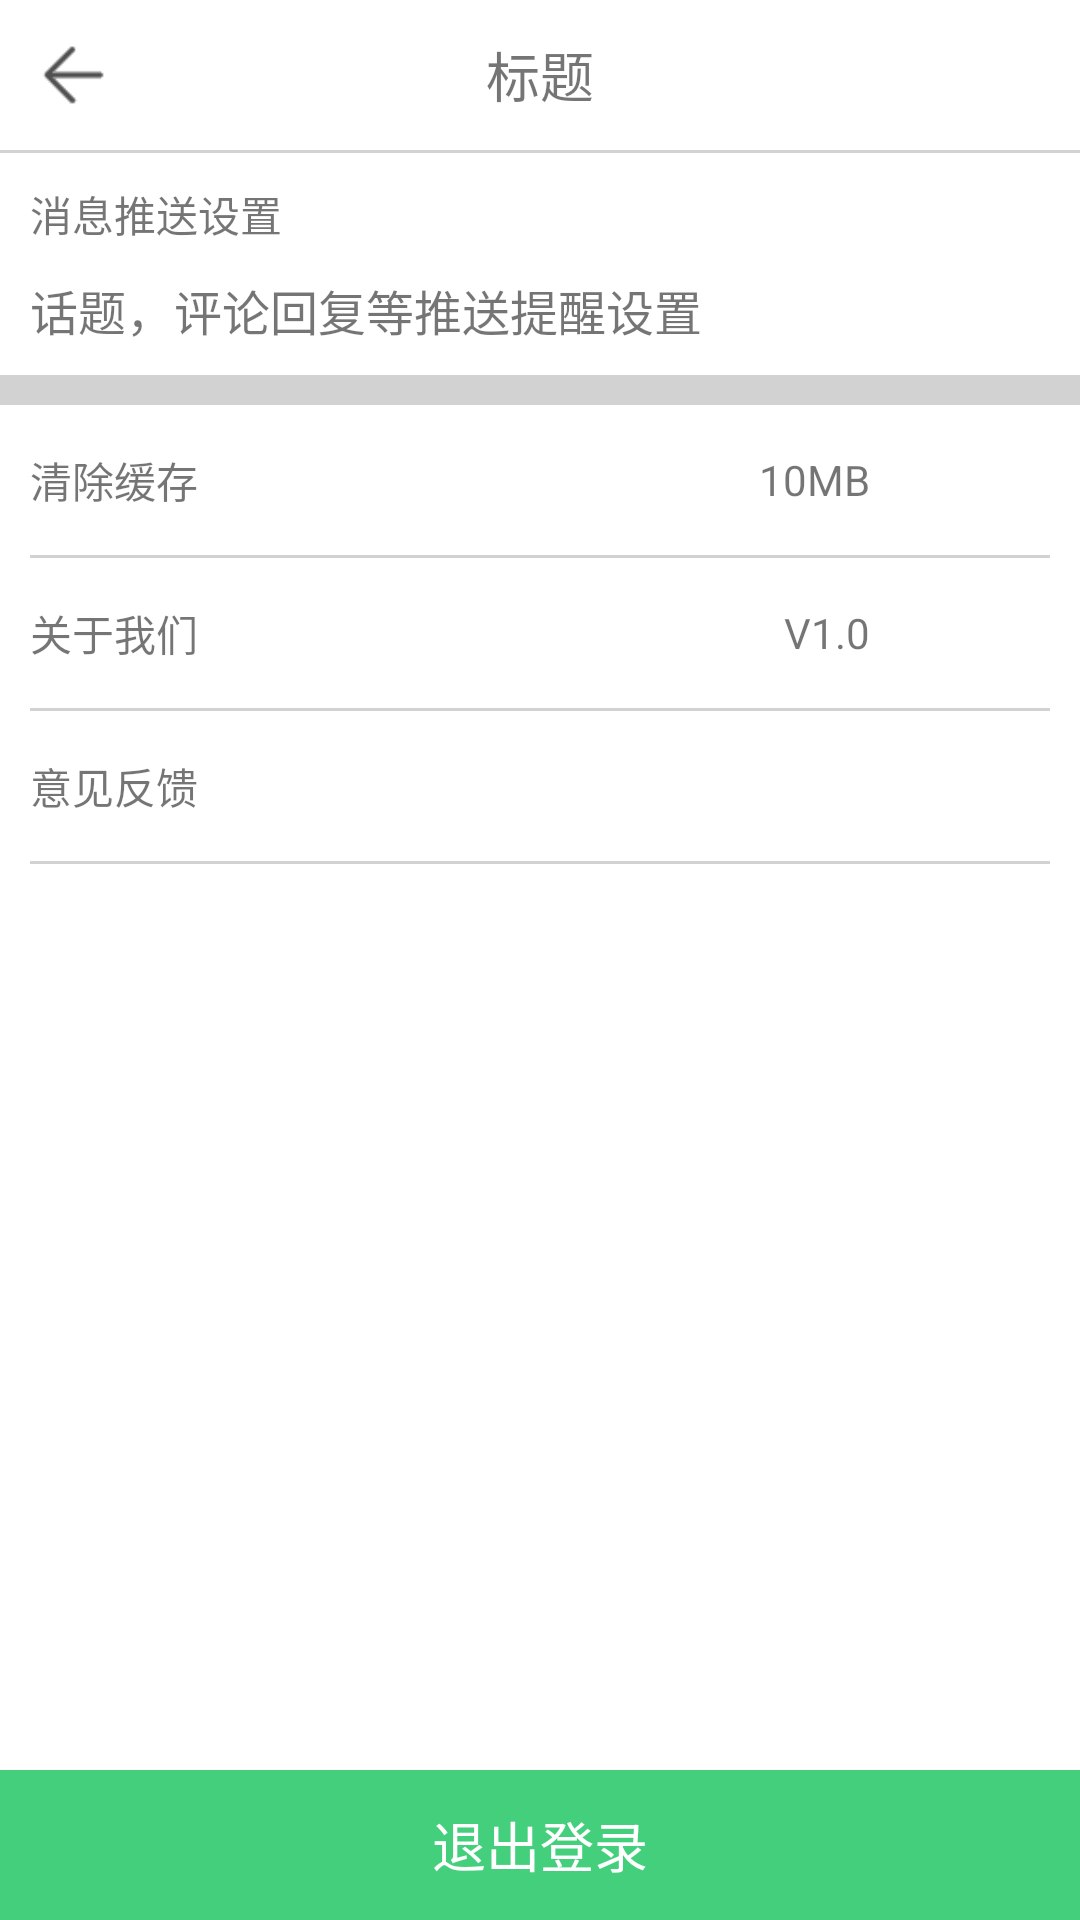

Point at icon controls on the screen. Image size 1080*1920, points as (x=x, y=y).
back: (x=74, y=75)
